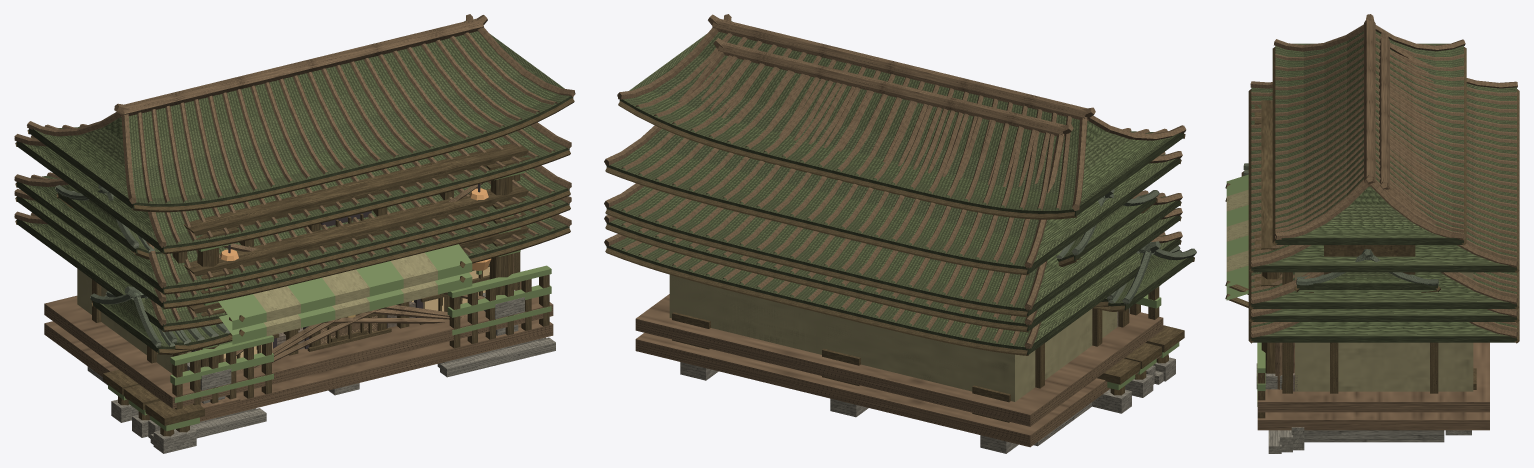
Rendered from regional_bamboo.glb.
3 renders of one model, left to right at view 1: azimuth 30°, elevation 25°; view 2: azimuth 150°, elevation 25°; view 3: azimuth 270°, elevation 25°, orthographic. The views are drawn at different scales.
Visible parts, largest first — view 1: gate, hall, wing, home, cottage, inn, shop; view 2: hall, gate, wing, home, cottage; view 3: hall, gate, wing, cottage, home, inn, shop.
Boxes of the visible parts, left/top/right/bottom form: gate: left=27, top=14, right=575, bottom=453; hall: left=14, top=122, right=571, bottom=449; wing: left=14, top=165, right=571, bottom=421; home: left=14, top=189, right=571, bottom=372; cottage: left=14, top=211, right=571, bottom=367; inn: left=218, top=244, right=472, bottom=330; shop: left=192, top=270, right=489, bottom=358; hall: left=604, top=38, right=1182, bottom=453; gate: left=617, top=14, right=1196, bottom=446; wing: left=604, top=183, right=1182, bottom=447; home: left=604, top=208, right=1182, bottom=395; cottage: left=604, top=231, right=1182, bottom=355; hall: left=1243, top=32, right=1519, bottom=435; gate: left=1241, top=14, right=1466, bottom=453; wing: left=1248, top=271, right=1519, bottom=430; cottage: left=1248, top=320, right=1519, bottom=343; home: left=1248, top=307, right=1519, bottom=393; inn: left=1225, top=174, right=1248, bottom=294; shop: left=1225, top=198, right=1248, bottom=307.
Size of the model in its own units: 2.25 by 1.44 by 1.42.
Materials: 1 (1 with a texture image).
